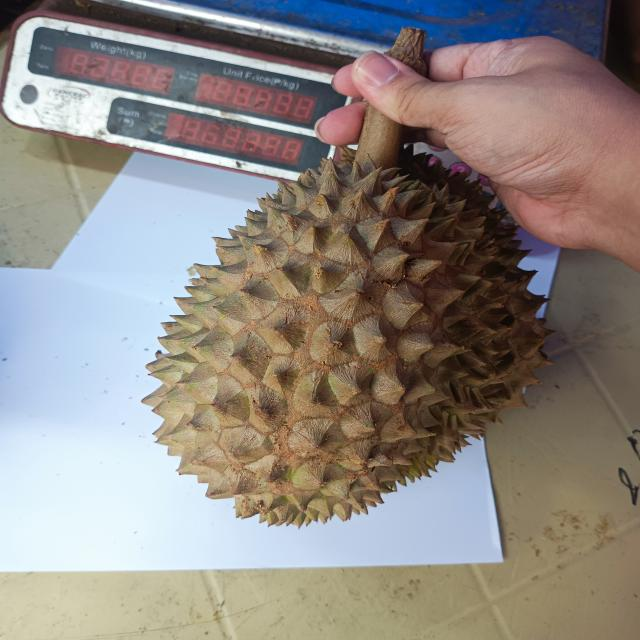mature: (144, 106, 551, 526)
